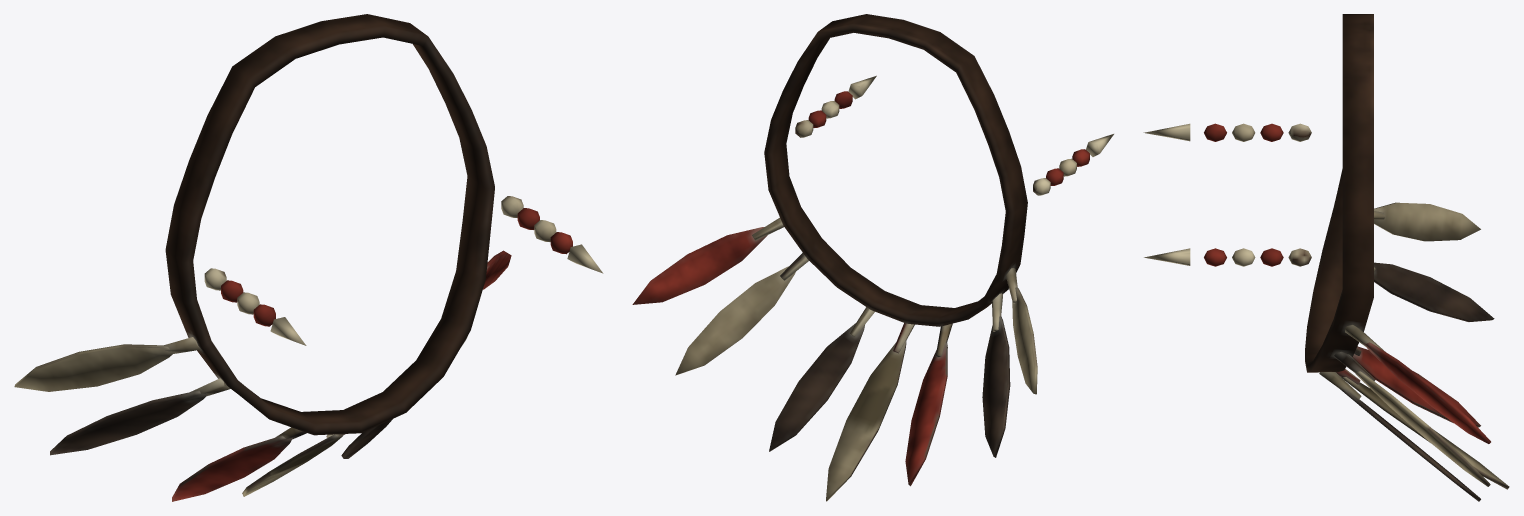
Rendered from Prop_ShamanHeaddress.fbx.
The picture shows the model from 3 angles, left to right: view 1: azimuth 30°, elevation 25°; view 2: azimuth 150°, elevation 25°; view 3: azimuth 270°, elevation 25°; orthographic projection. The views are drawn at different scales.
Visible parts, largest first — view 1: Prop_ShamanHeaddress; view 2: Prop_ShamanHeaddress; view 3: Prop_ShamanHeaddress.
Boxes of the visible parts, bbox=[...] form: Prop_ShamanHeaddress: bbox=[14, 14, 603, 501]; Prop_ShamanHeaddress: bbox=[632, 14, 1113, 501]; Prop_ShamanHeaddress: bbox=[1143, 14, 1509, 501].
Size of the model in its own units: 0.3166 by 0.3224 by 0.2335.
